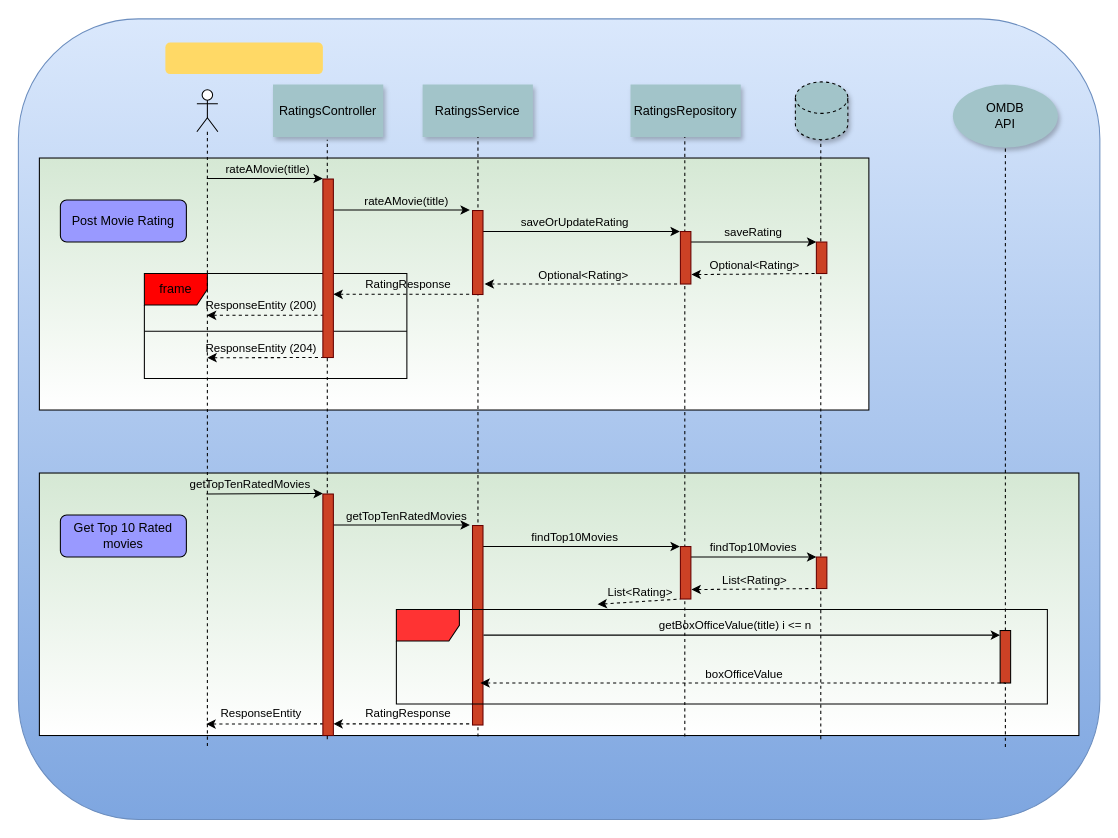
This 1118x838 diagram has some shape labels left out. The shapes that lost their labels are listed below. From the top down, each one's centre as x and y in pixels, then its label:
At (x=243, y=58): "RatingsAPI".
At (x=822, y=112): "H2".
At (x=721, y=656): "loop n".
